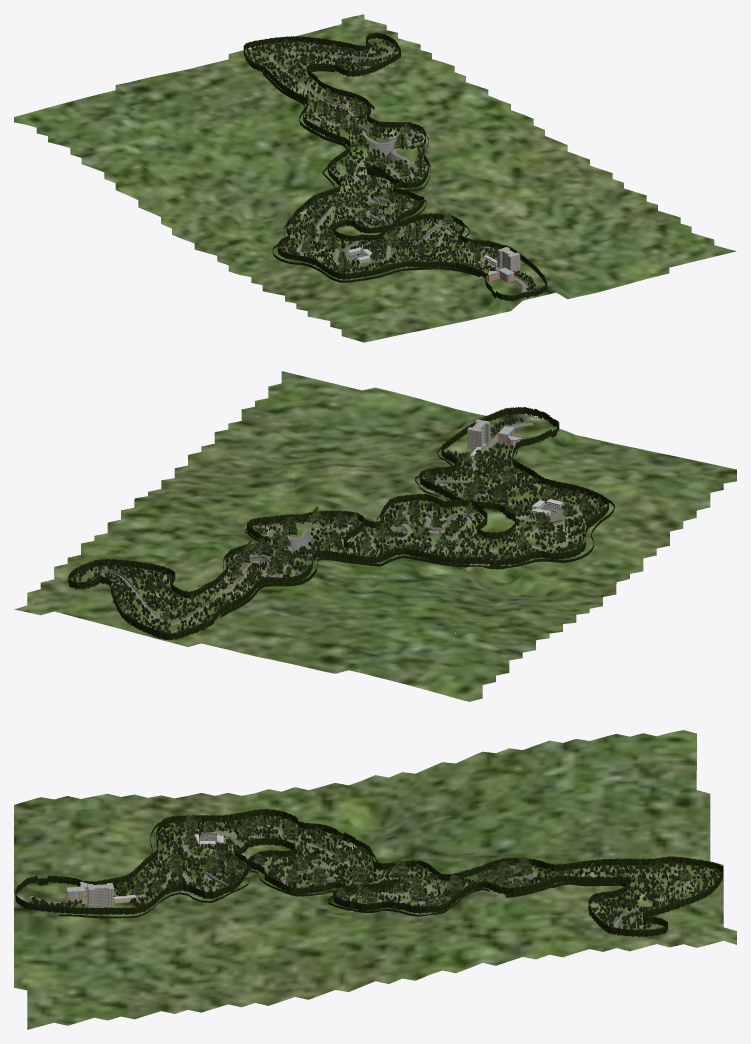
The model's file is tsukuba_gta.glb.
The picture shows the model from 3 angles, top to bottom: view 1: azimuth 30°, elevation 25°; view 2: azimuth 150°, elevation 25°; view 3: azimuth 270°, elevation 25°; orthographic projection. The views are drawn at different scales.
Visible parts, largest first — view 1: col_26, col_222, col_173, col_104, col_263, col_4, col_57, col_1, col_136, vis_58, col_288, col_289 (+19 smaller); view 2: col_26, col_222, col_104, col_4, col_173, col_57, col_263, col_136, vis_58, col_289, col_0, col_288 (+21 smaller); view 3: col_222, col_26, col_263, col_173, col_4, col_104, col_136, vis_58, col_1, col_57, col_288, col_289 (+22 smaller).
Boxes of the visible parts, x1=… form: col_26: x1=138, y1=103, x2=364, y2=228; col_222: x1=377, y1=141, x2=600, y2=246; col_173: x1=285, y1=65, x2=510, y2=182; col_104: x1=307, y1=247, x2=521, y2=340; col_263: x1=454, y1=219, x2=668, y2=300; col_4: x1=82, y1=59, x2=284, y2=138; col_57: x1=228, y1=185, x2=453, y2=288; col_1: x1=71, y1=138, x2=217, y2=234; col_136: x1=228, y1=14, x2=431, y2=102; vis_58: x1=279, y1=175, x2=449, y2=273; col_288: x1=511, y1=136, x2=657, y2=219; col_289: x1=601, y1=205, x2=736, y2=273; col_26: x1=269, y1=547, x2=535, y2=638; col_222: x1=201, y1=441, x2=469, y2=544; col_104: x1=472, y1=423, x2=723, y2=522; col_4: x1=202, y1=597, x2=442, y2=679; col_173: x1=95, y1=495, x2=370, y2=596; col_57: x1=374, y1=474, x2=643, y2=596; col_263: x1=296, y1=387, x2=549, y2=473; col_136: x1=14, y1=552, x2=268, y2=646; vis_58: x1=373, y1=467, x2=602, y2=565; col_289: x1=229, y1=371, x2=375, y2=440; col_0: x1=389, y1=639, x2=522, y2=701; col_288: x1=161, y1=424, x2=294, y2=495; col_222: x1=174, y1=879, x2=375, y2=981; col_26: x1=375, y1=776, x2=576, y2=881; col_263: x1=14, y1=889, x2=174, y2=987; col_173: x1=375, y1=861, x2=576, y2=959; col_4: x1=576, y1=770, x2=710, y2=862; col_104: x1=14, y1=805, x2=183, y2=892; col_136: x1=576, y1=857, x2=736, y2=945; vis_58: x1=170, y1=813, x2=376, y2=885; col_1: x1=375, y1=739, x2=576, y2=804; col_57: x1=174, y1=803, x2=375, y2=887; col_288: x1=174, y1=958, x2=375, y2=1013; col_289: x1=14, y1=979, x2=174, y2=1029.
Size of the model in its own units: 1234 by 134 by 1461.
79 materials, 79 textured.
